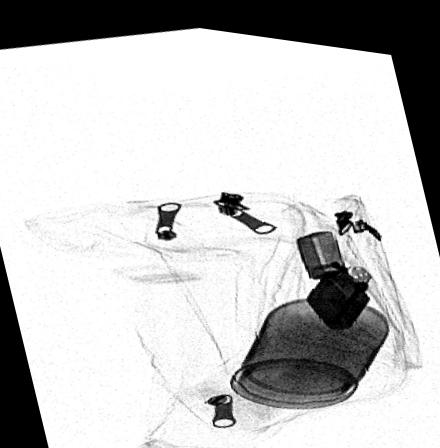Lighter: (292, 221, 371, 319)
